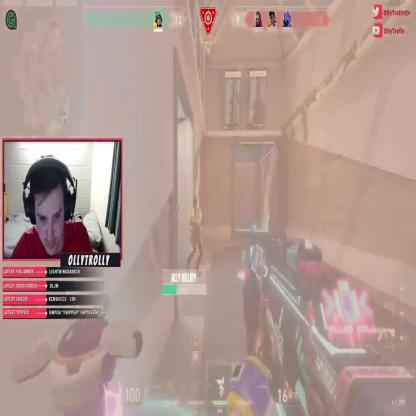enemy: (187, 195, 204, 277)
enemy_head: (193, 197, 198, 212)
